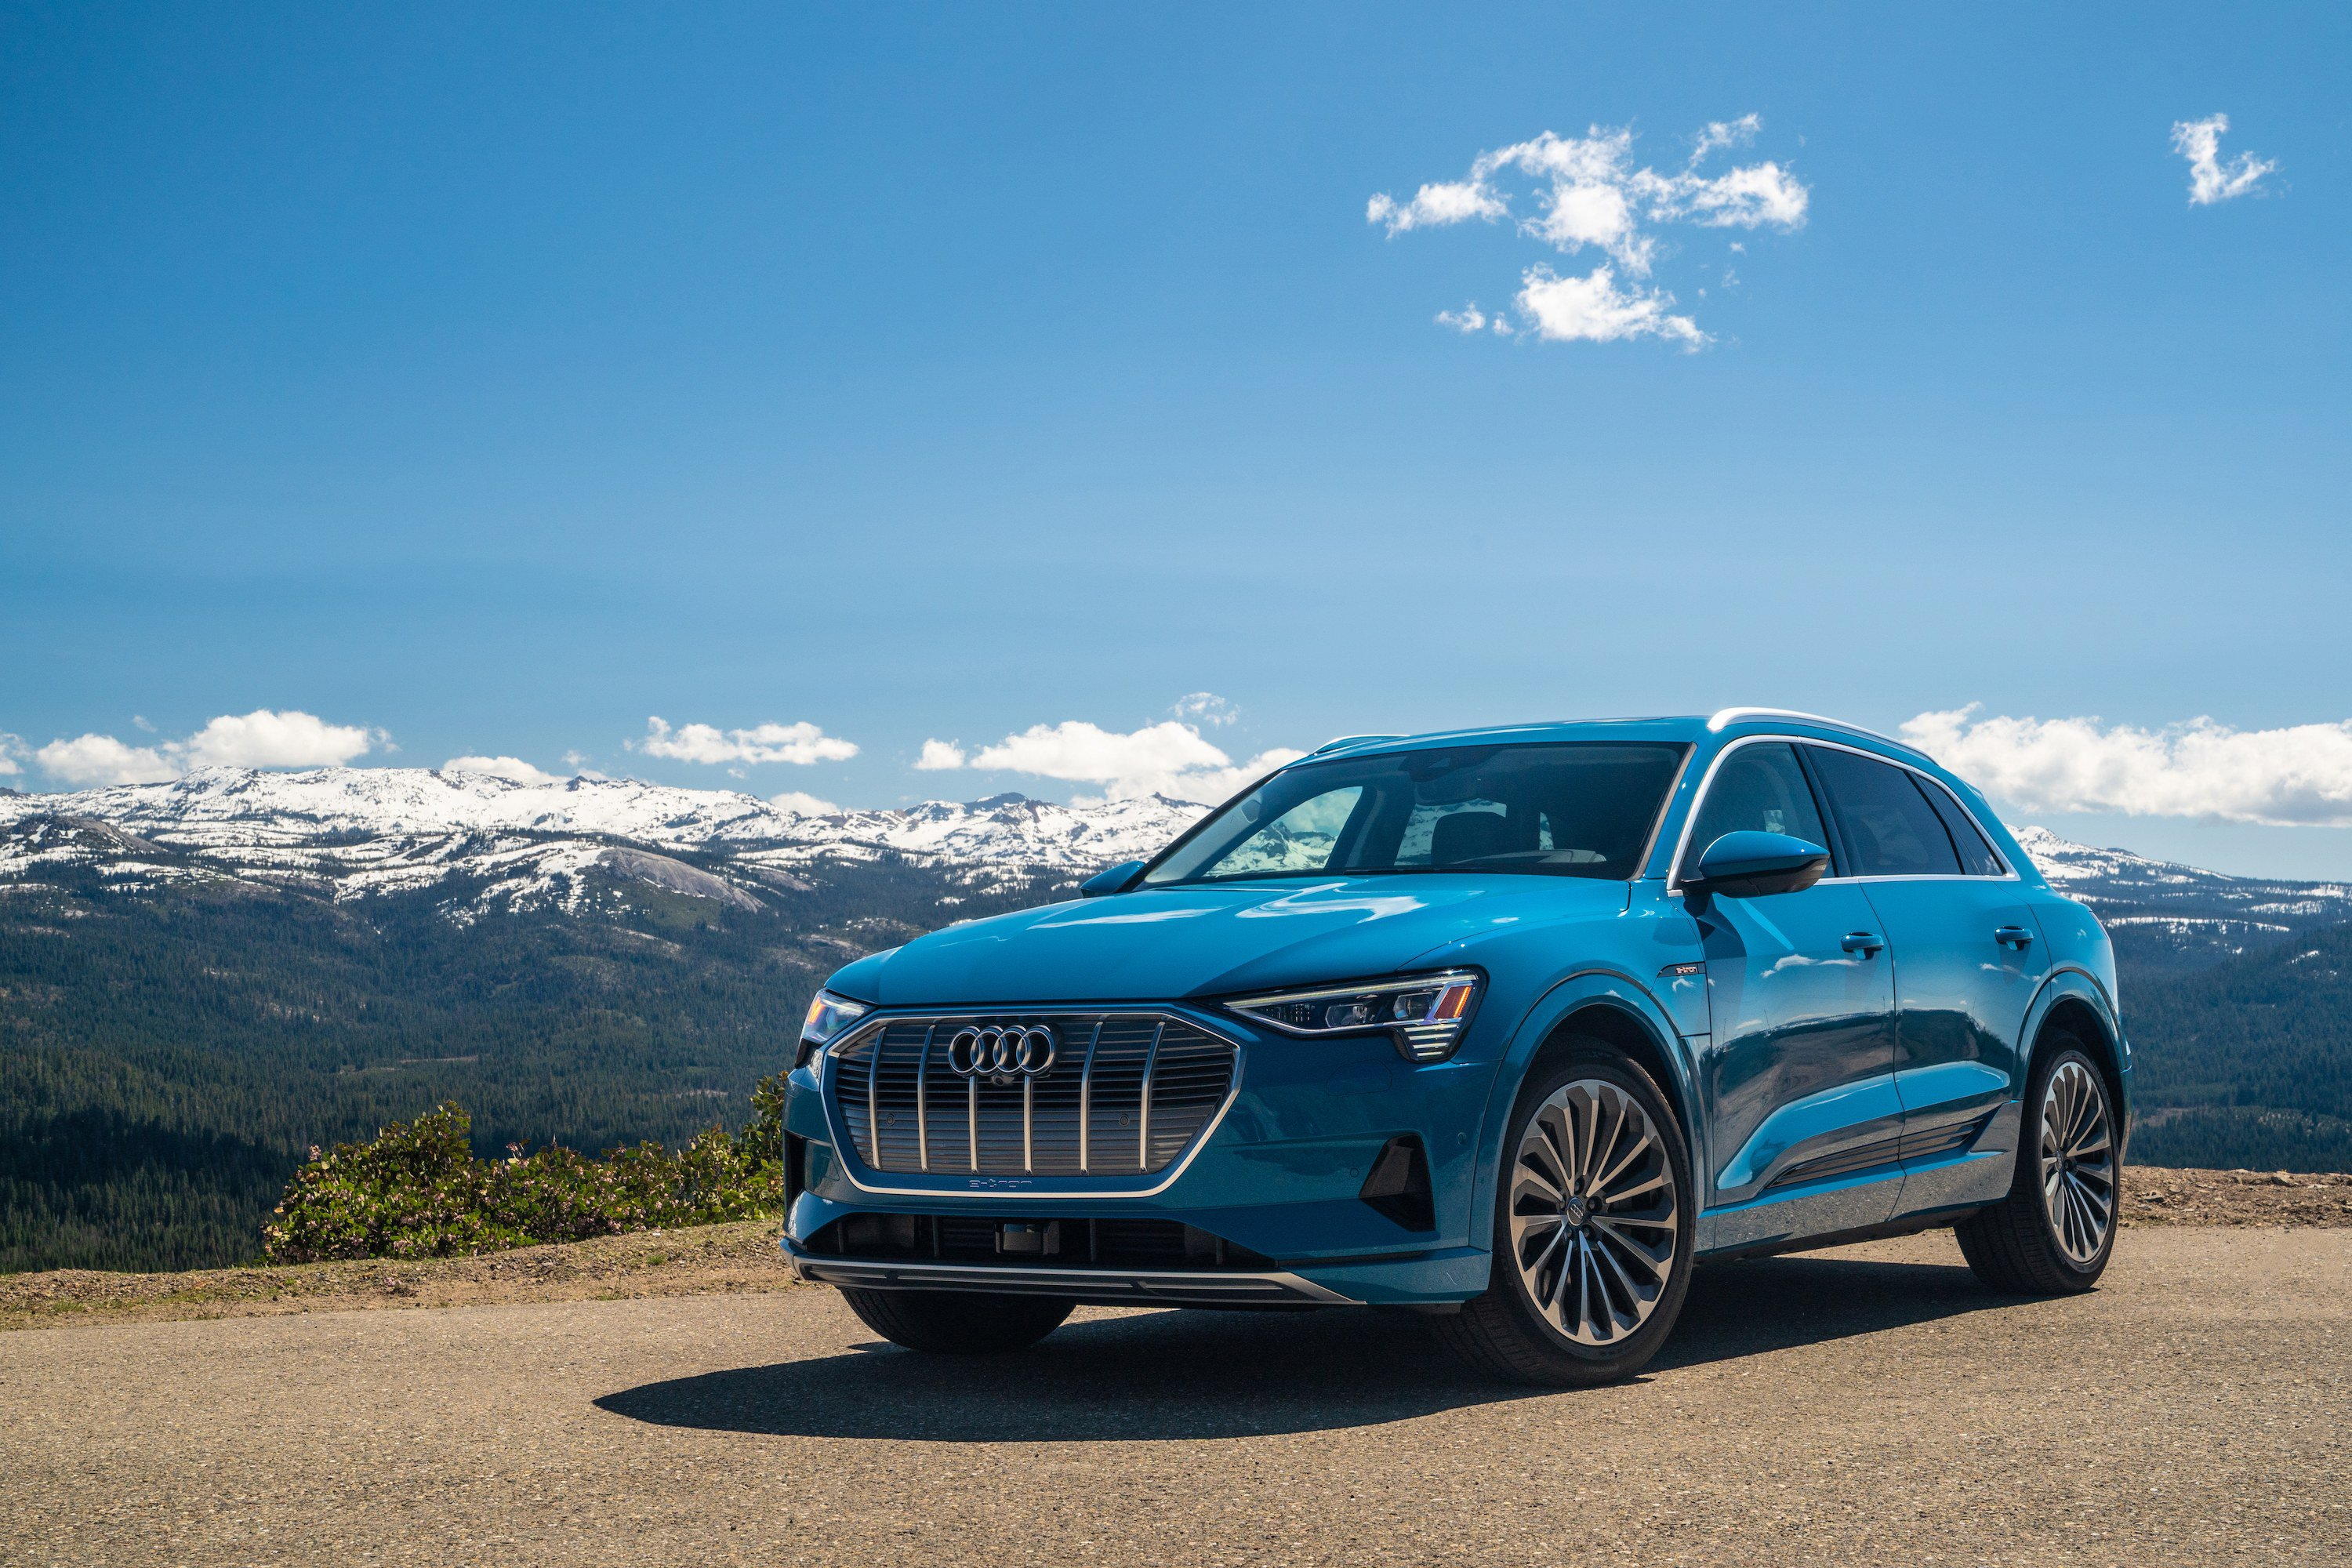car: (789, 668, 2152, 1319)
